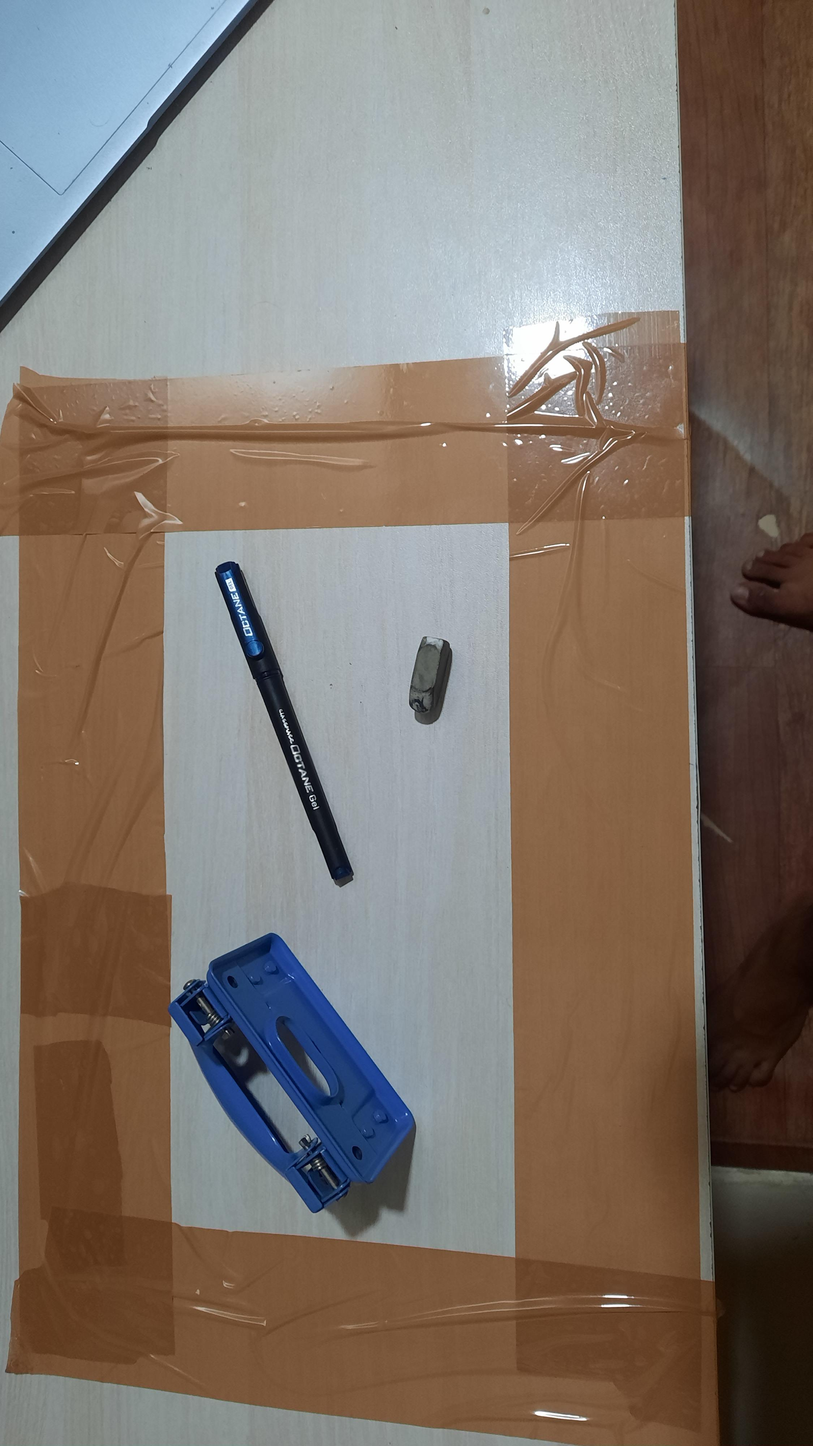Eraser: (409, 636, 452, 713)
Pen: (214, 560, 354, 886)
Punch: (167, 933, 416, 1215)
